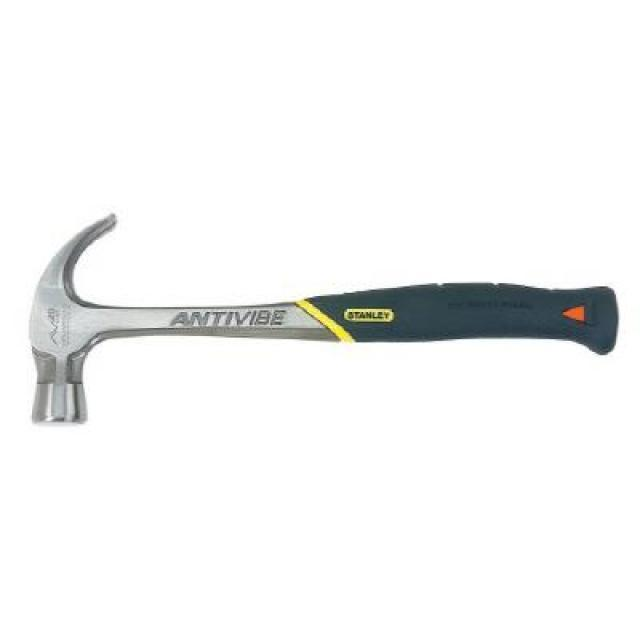hammer: (23, 206, 627, 437)
